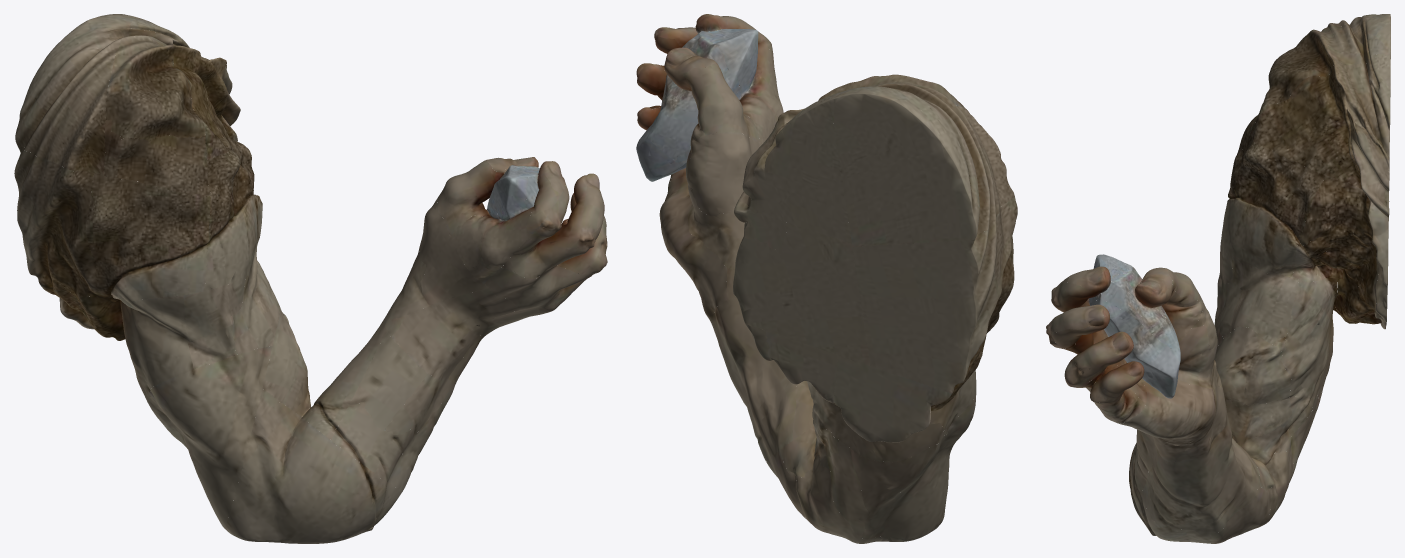
File: arm_crystal.glb
3 views of the same model, side by side, from view 1: azimuth 30°, elevation 25°; view 2: azimuth 150°, elevation 25°; view 3: azimuth 270°, elevation 25° (orthographic). The views are drawn at different scales.
Parts seen in each view (by area): view 1: DST_Arm_Crystal; view 2: DST_Arm_Crystal; view 3: DST_Arm_Crystal.
Part boxes in pixels (box(x1,y1,x2,y2)): DST_Arm_Crystal: box(14, 14, 607, 543); DST_Arm_Crystal: box(636, 14, 1017, 543); DST_Arm_Crystal: box(1046, 14, 1390, 543).
Size of the model in its own units: 2.6 by 2.58 by 1.81.
Materials: 1 (1 with a texture image).
